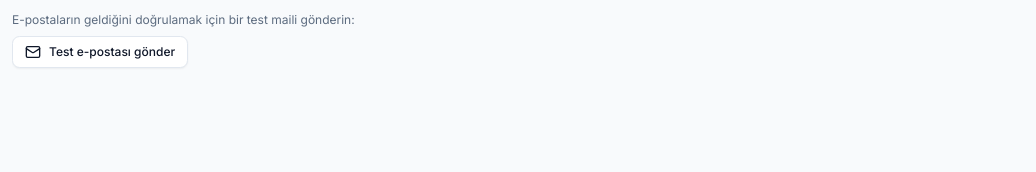
it: TestEmailButton (UI) › kapatma düğmesi bildirimi elle kapatır
Click the button "Test e-postası gönder" at (100,52), box [12,36,188,68]
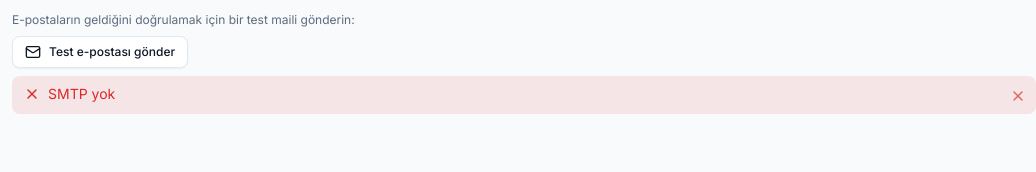
Check: the text "SMTP yok" is shown, box [24,84,115,104]
Click the button named "Bildirimi kapat" at (1018,96), box [1008,86,1028,106]
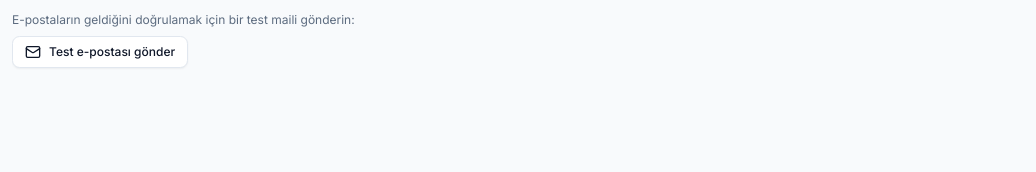
Check: the text "SMTP yok" is gone
